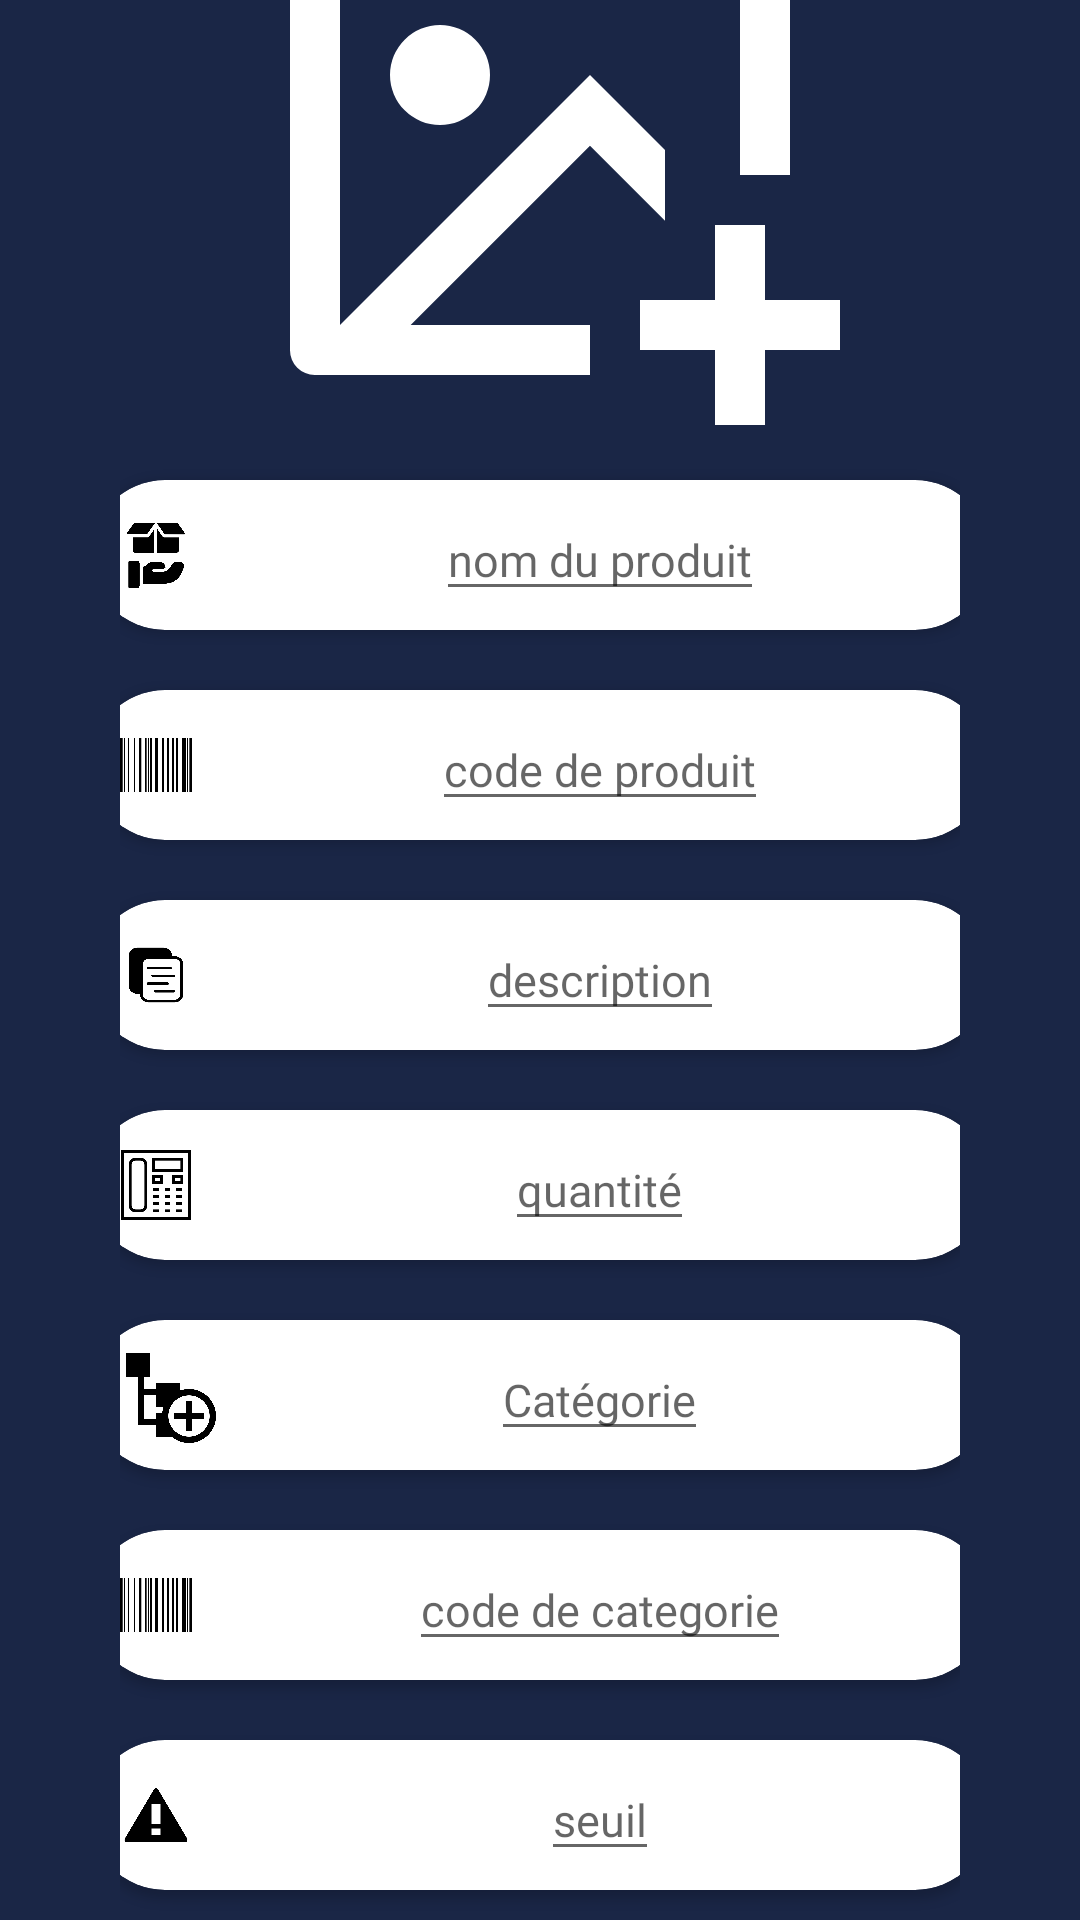

Point at icon controls on the screen. Image size 1080px x 1920px, points as (x=x, y=y).
alert: (x=155, y=1815)
category add: (x=171, y=1398)
code: (x=158, y=765), (x=158, y=1605)
description: (x=156, y=975)
product: (x=156, y=555)
